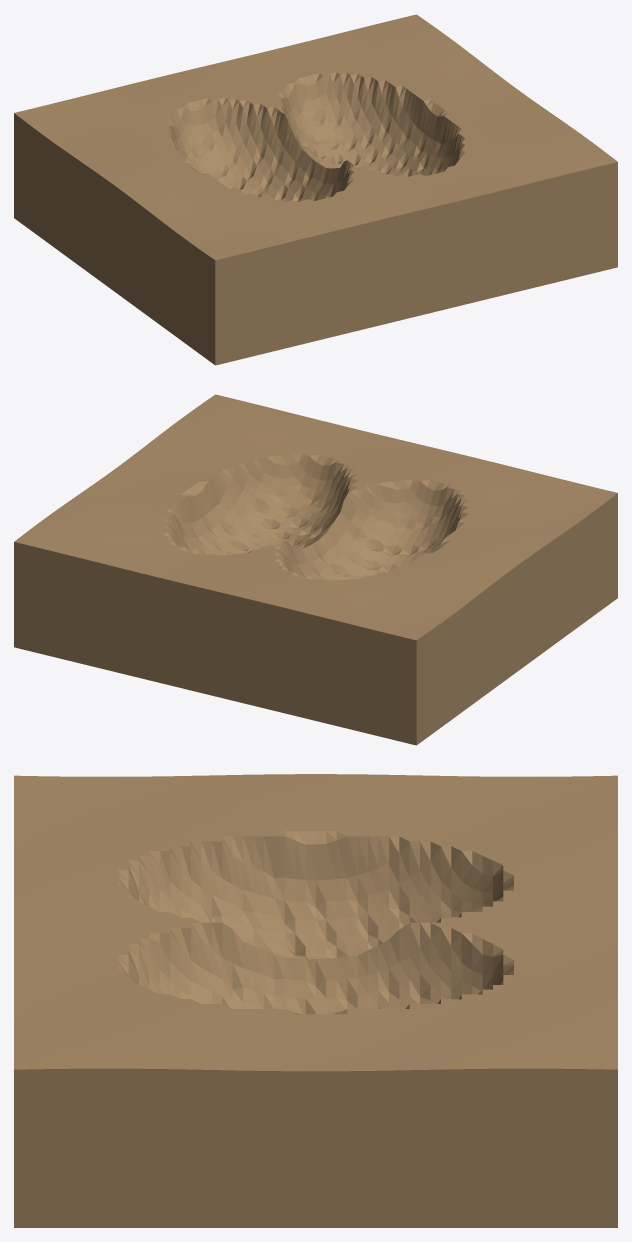
File: rusophycus-resting-excavation.glb
3 views of the same model, one above another, from view 1: azimuth 30°, elevation 25°; view 2: azimuth 150°, elevation 25°; view 3: azimuth 270°, elevation 25° (orthographic). The views are drawn at different scales.
Visible parts, largest first — view 1: short-deep-bilobed-negative-and-scratch-fields; view 2: short-deep-bilobed-negative-and-scratch-fields; view 3: short-deep-bilobed-negative-and-scratch-fields.
Part boxes in pixels (x1,y1,x2,y2): short-deep-bilobed-negative-and-scratch-fields: [14, 14, 617, 365]; short-deep-bilobed-negative-and-scratch-fields: [14, 394, 617, 745]; short-deep-bilobed-negative-and-scratch-fields: [14, 774, 617, 1227].
Bounding box in the file's own units: 0.18 × 0.0455 × 0.156.
